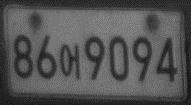0: (109, 36, 129, 81)
4: (154, 36, 178, 83)
6: (36, 35, 57, 80)
8: (12, 35, 34, 79)
9: (130, 36, 153, 82), (84, 35, 106, 80)
어: (59, 43, 82, 80)
